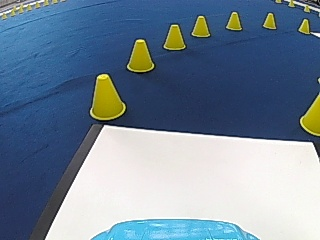cone: (89, 73, 125, 120), (126, 39, 155, 72), (299, 92, 320, 135), (163, 23, 186, 50), (191, 15, 210, 38), (225, 11, 242, 31), (262, 12, 277, 29), (298, 19, 310, 34)
